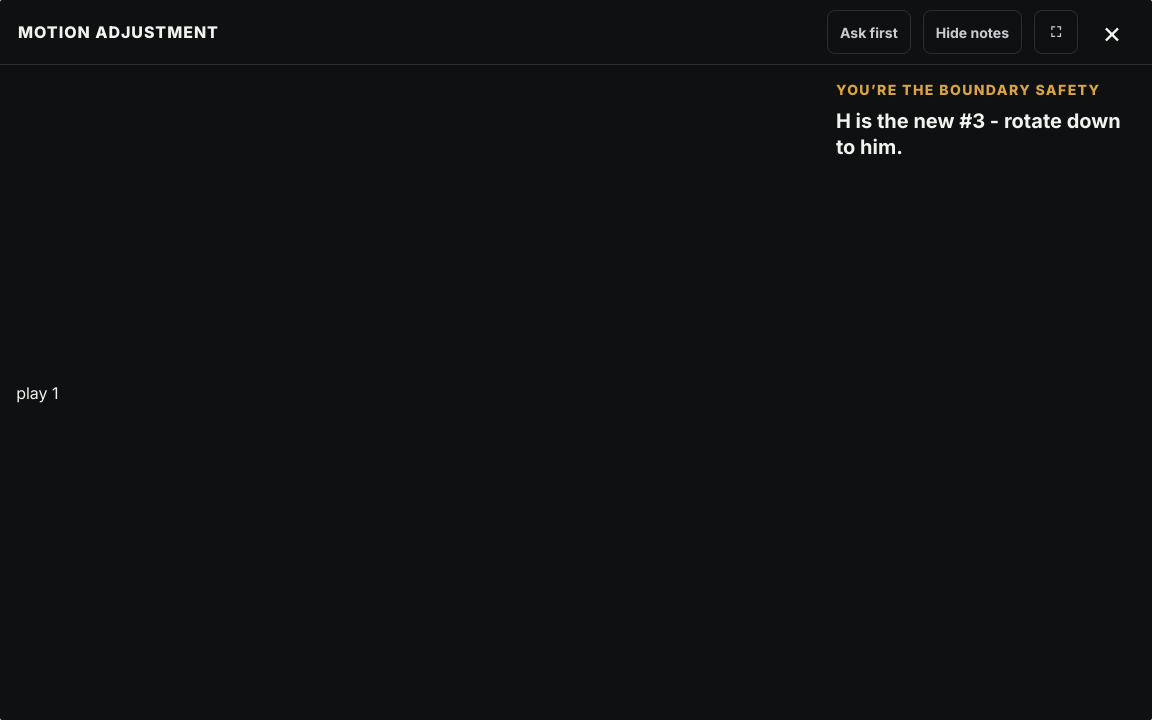
Test: Ask first on a play - the point is the answer › holds the coach's point back with the routes, until shown
Click the button "Ask first" at x=869, y=32, box x1=827 y1=10 x2=911 y2=54
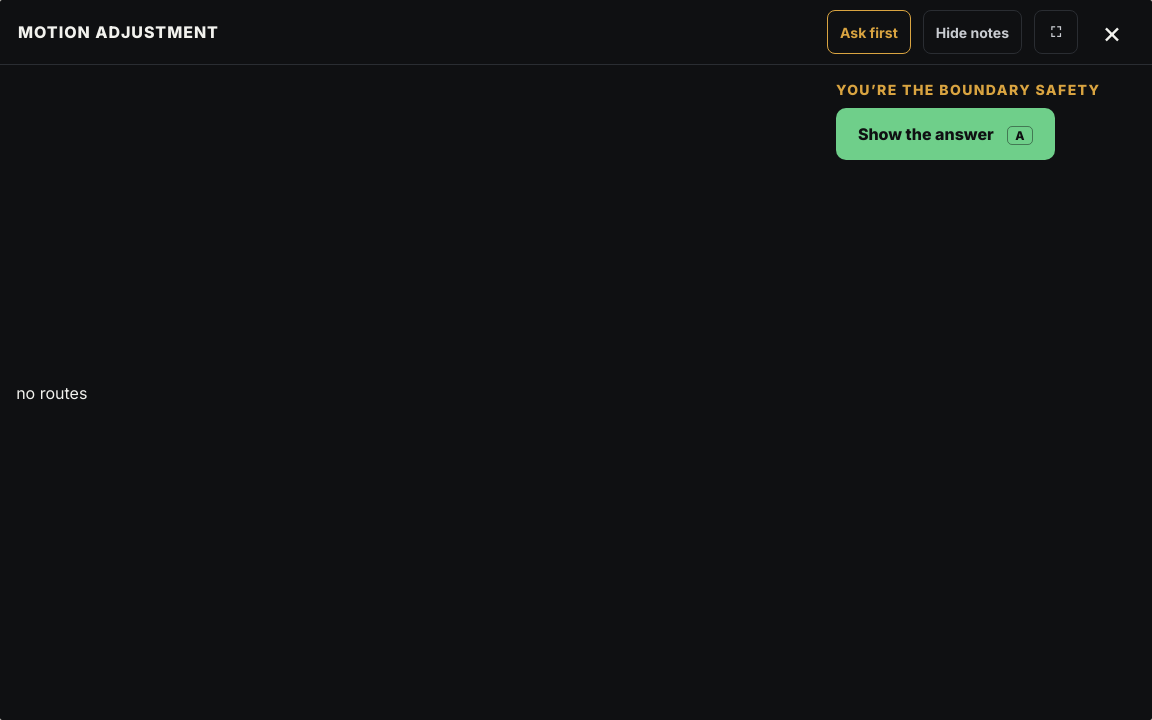
Expected: the text "You’re the boundary safety" is shown, x1=836 y1=81 x2=1136 y2=98
Result: the text "H is the new #3 - rotate down to him." is gone
Result: the text with test id "picture" reads "no routes" at x1=16 y1=382 x2=87 y2=402
Click the button "Show the answer A" at x=945, y=134, box x1=836 y1=108 x2=1054 y2=160
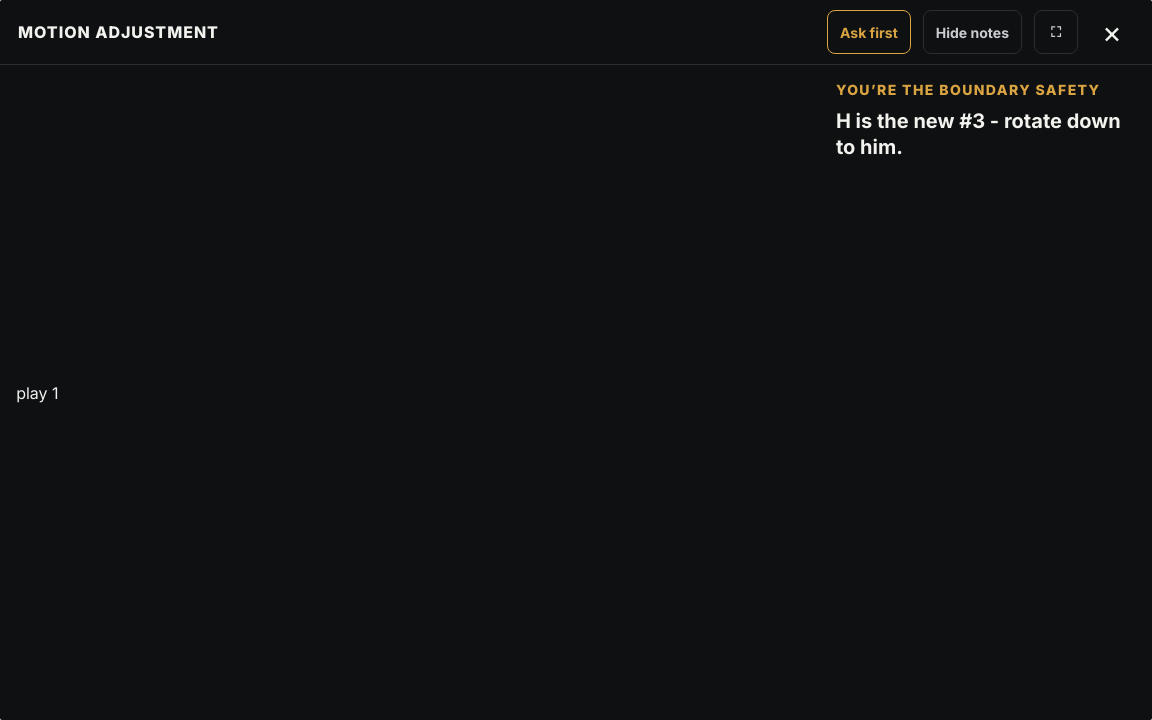
Result: the text "H is the new #3 - rotate down to him." is shown at x1=836 y1=108 x2=1136 y2=160
Result: the text with test id "picture" reads "play 1" at x1=16 y1=382 x2=58 y2=402
